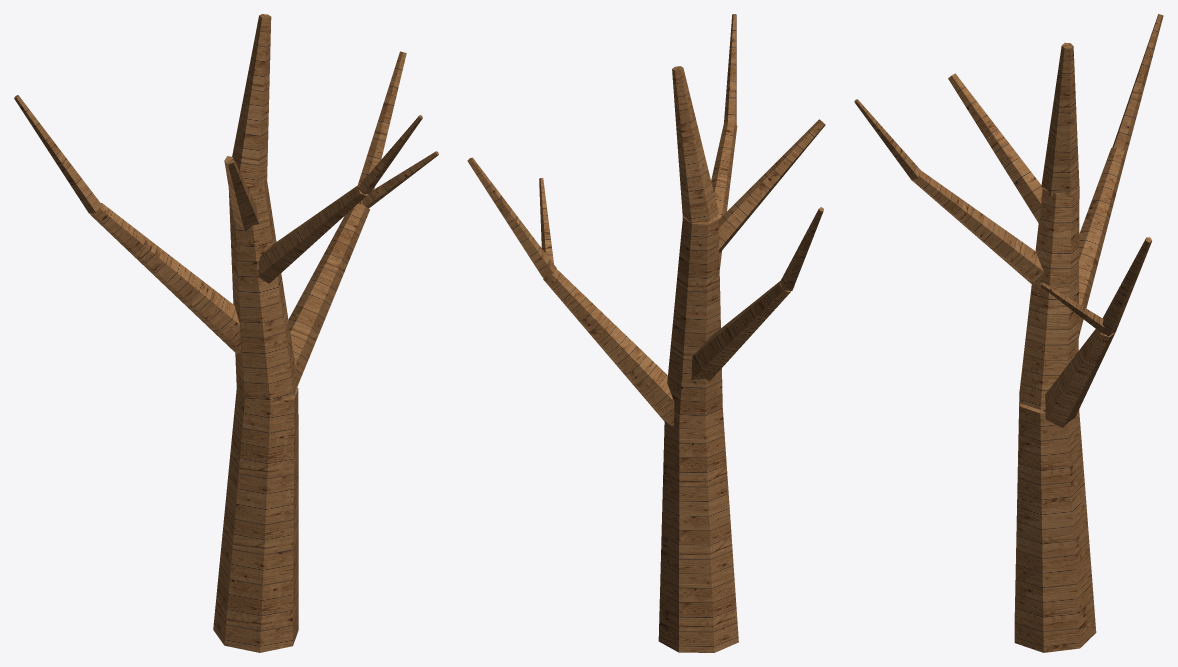
Rendered from tree_dead.glb.
3 renders of one model, left to right at view 1: azimuth 30°, elevation 25°; view 2: azimuth 150°, elevation 25°; view 3: azimuth 270°, elevation 25°, orthographic. The views are drawn at different scales.
Parts seen in each view (by area): view 1: TreeDead; view 2: TreeDead; view 3: TreeDead.
Boxes of the visible parts, <box> form: TreeDead: <box>14,14,438,652</box>; TreeDead: <box>467,14,825,652</box>; TreeDead: <box>854,14,1163,652</box>.
Size of the model in its own units: 3.65 by 5.52 by 2.59.
Materials: 1 (1 with a texture image).
